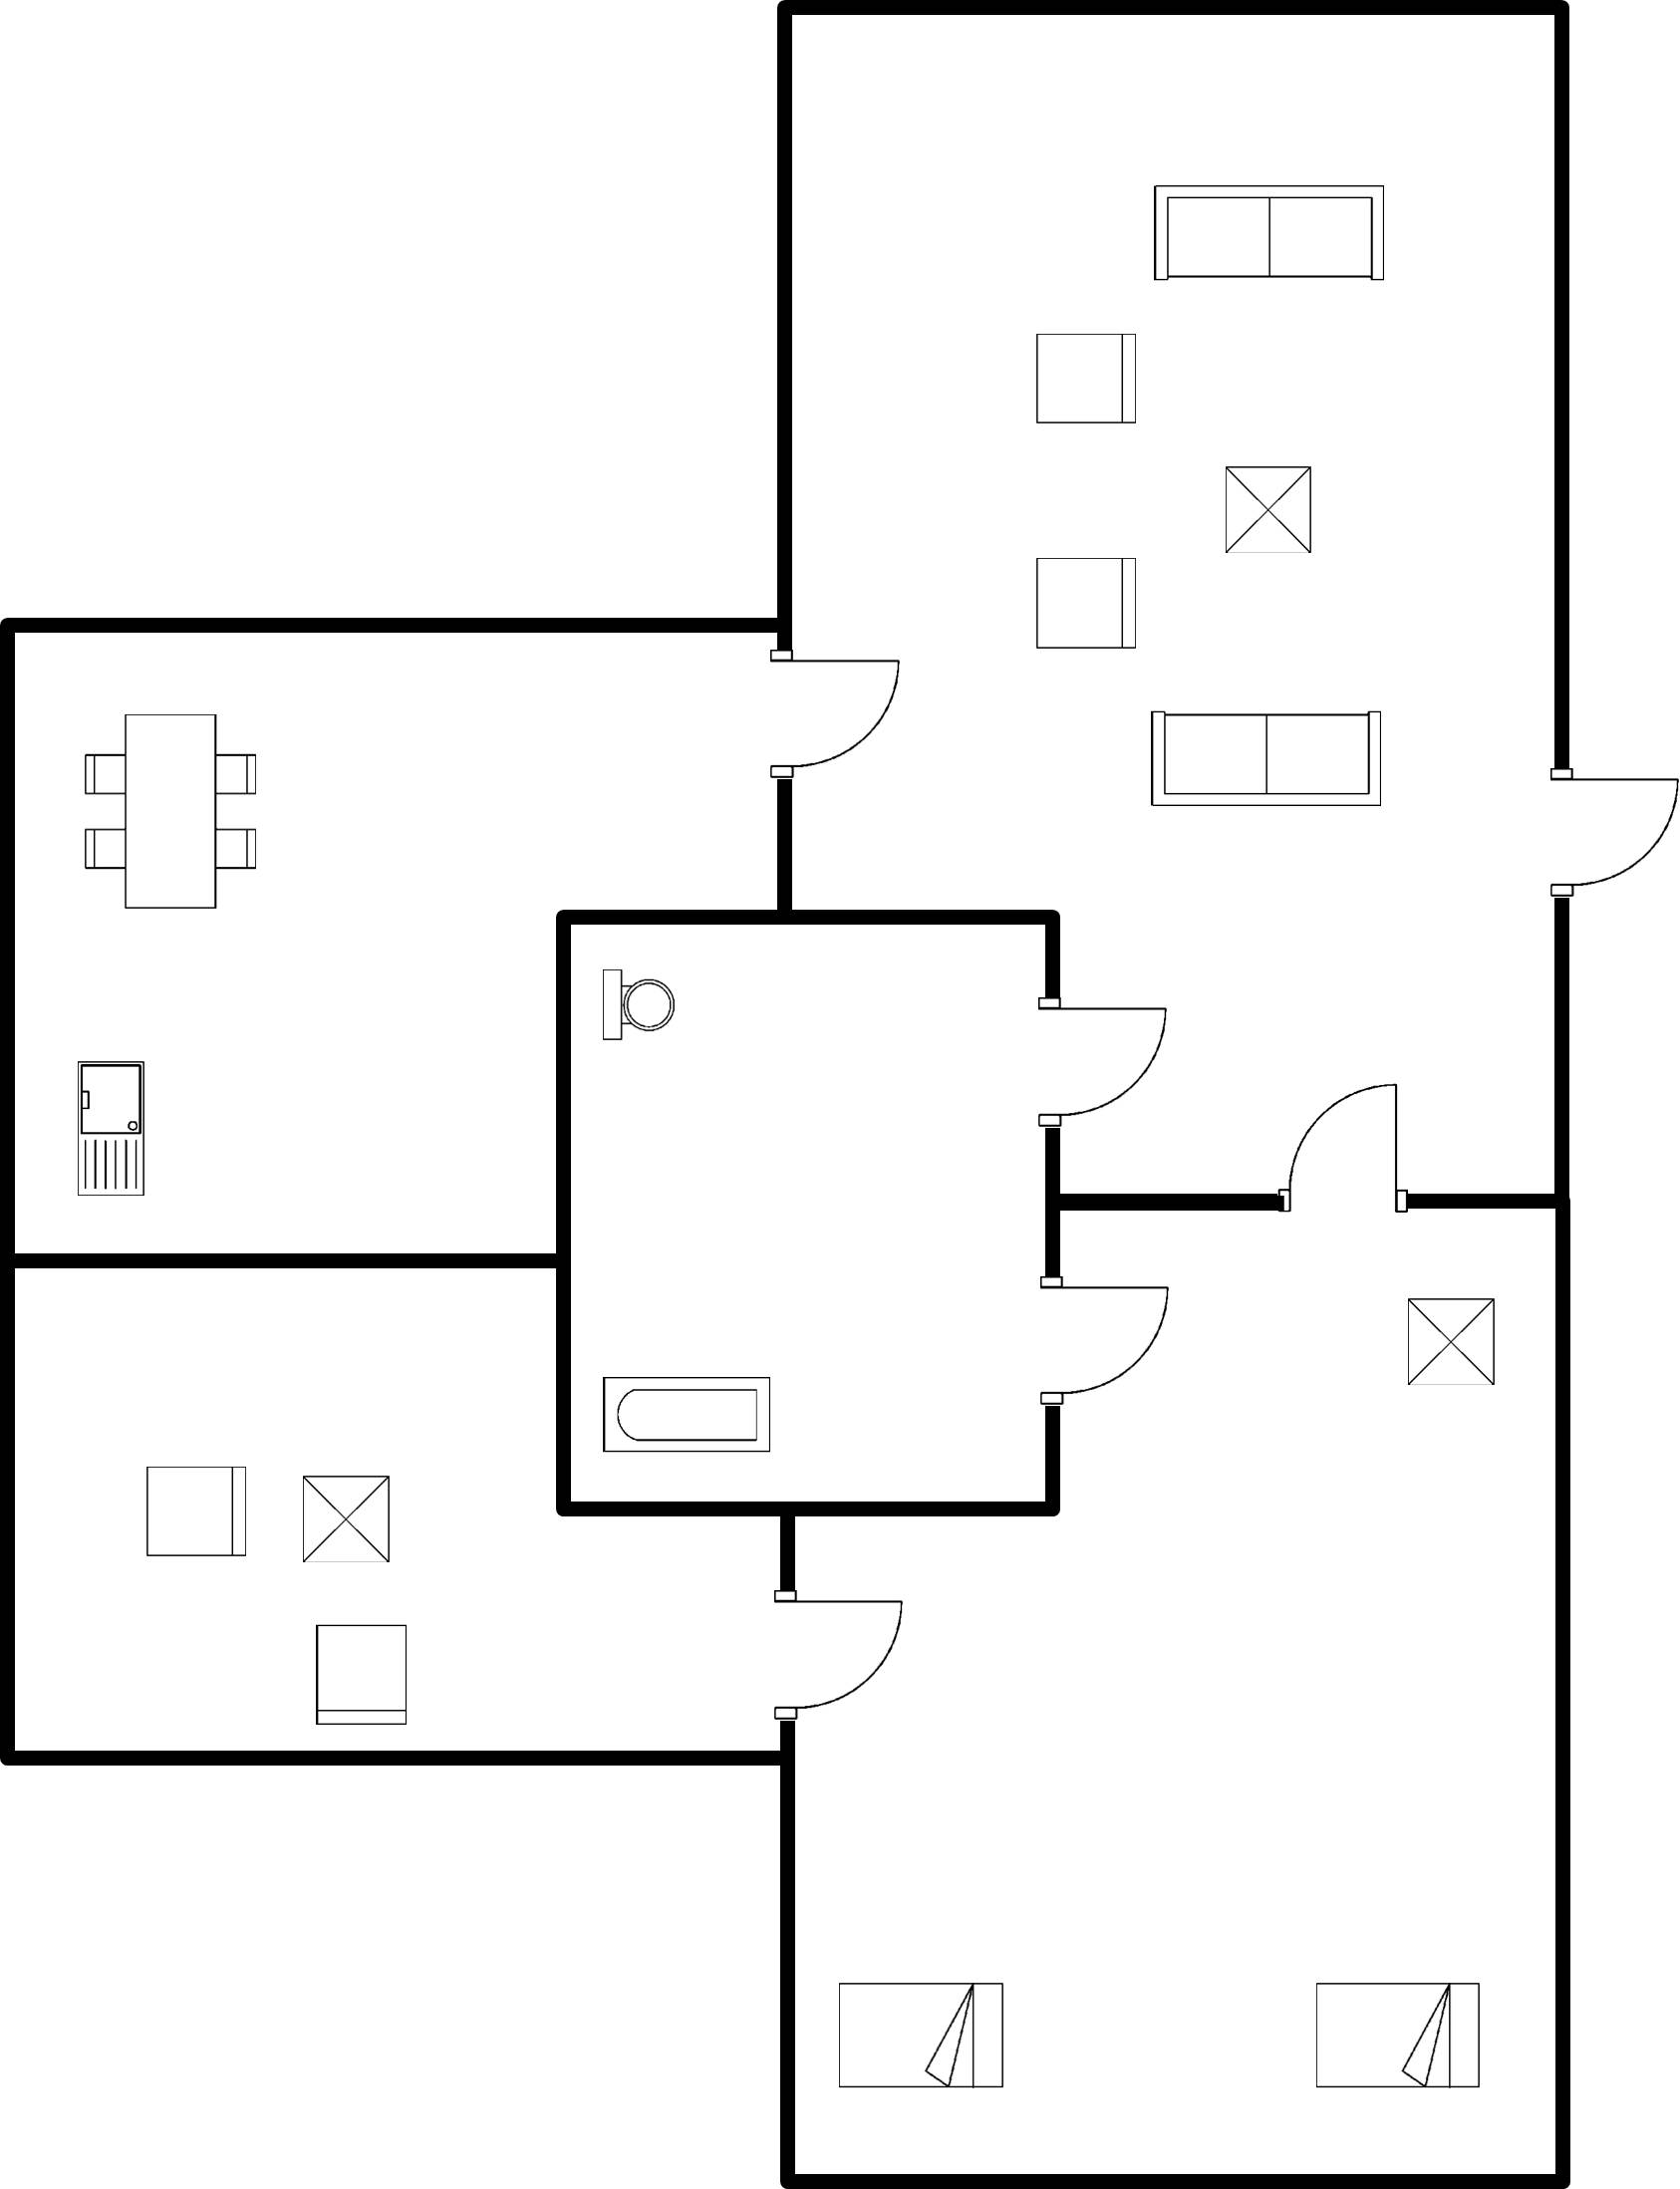bed: (826, 1967, 1016, 2107), (1302, 1971, 1498, 2105)
coffee_table: (1391, 1284, 1526, 1399), (1205, 450, 1328, 572), (289, 1460, 406, 1572)
dining_table: (70, 699, 273, 927)
large_sink: (588, 958, 690, 1059)
large_sofa: (1138, 166, 1411, 292), (1138, 701, 1391, 830)
sink: (68, 1050, 156, 1213)
small_sofa: (302, 1611, 425, 1746), (1020, 544, 1155, 665), (1023, 321, 1149, 444), (131, 1456, 258, 1570)
tub: (592, 1358, 787, 1471)
